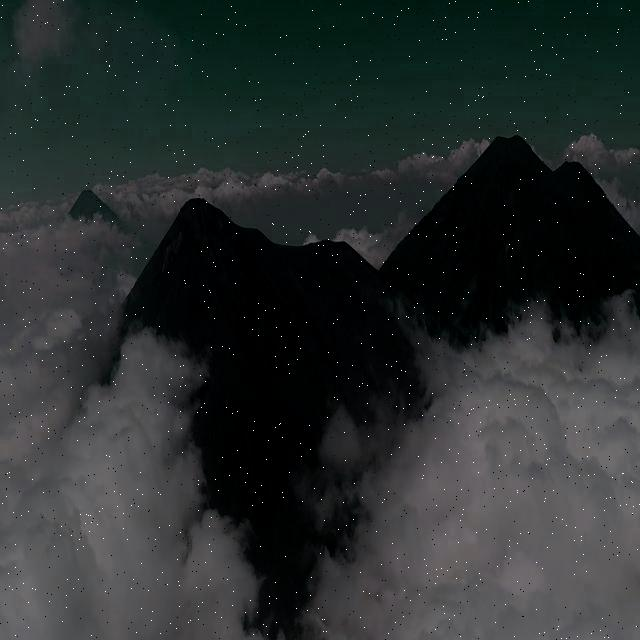Summit: (147, 197, 269, 267)
